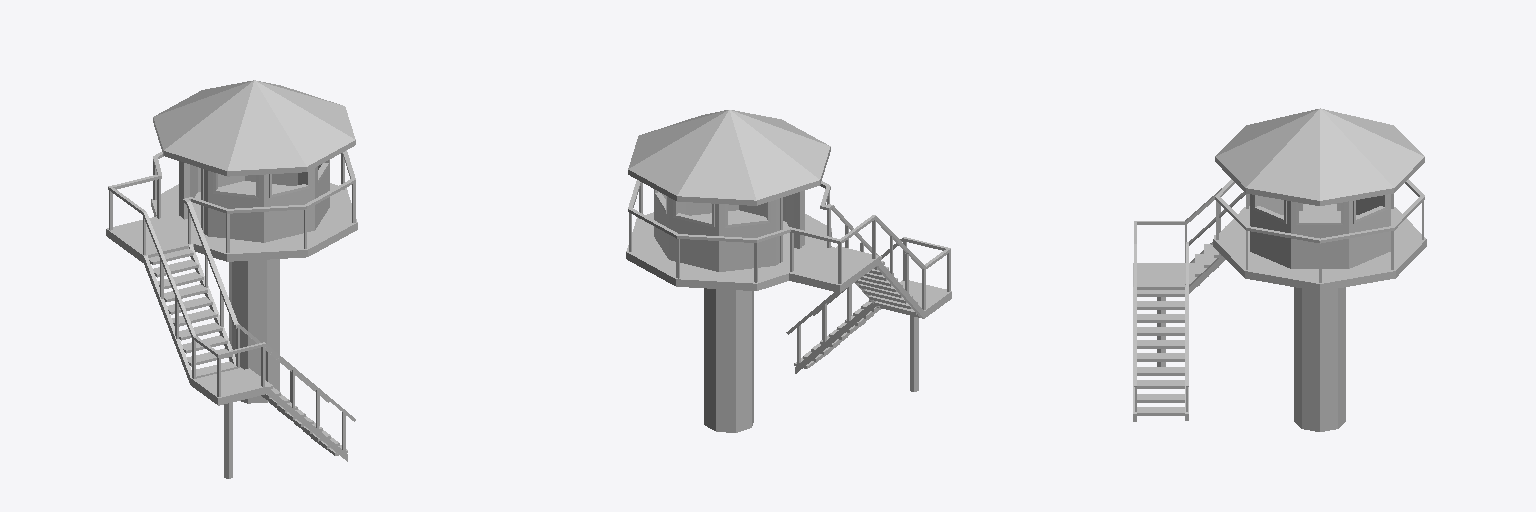
The model's file is tower_001.obj.
3 renders of one model, left to right at view 1: azimuth 30°, elevation 25°; view 2: azimuth 150°, elevation 25°; view 3: azimuth 270°, elevation 25°, orthographic.
Visible parts, largest first — view 1: tower_001; view 2: tower_001; view 3: tower_001.
Boxes of the visible parts, <box> form: tower_001: <box>106,80,357,478</box>; tower_001: <box>626,110,951,432</box>; tower_001: <box>1133,108,1426,431</box>.
Size of the model in its own units: 6.84 by 9.23 by 7.84.